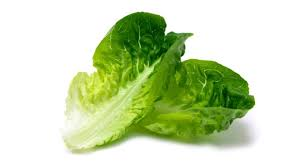lettuce: (60, 10, 186, 156), (136, 65, 260, 137)
